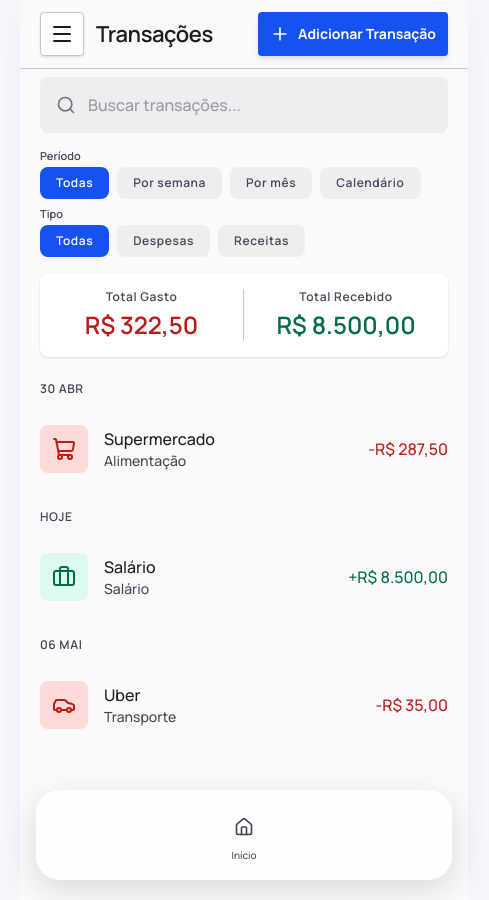
Scenario: TransactionsView › combina filtro de tipo com busca e período
Click the button "Por mês" at (271, 183), box [230, 167, 312, 199]
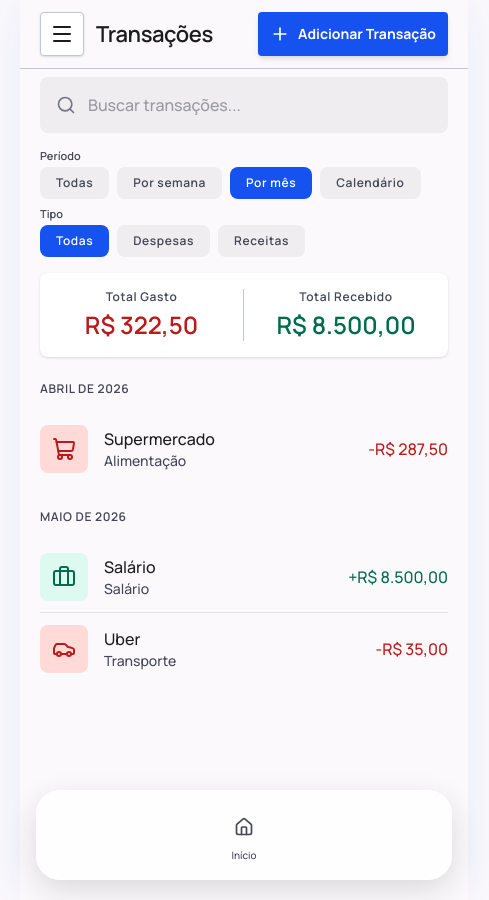
Click the button "Despesas" at (164, 241), box [117, 225, 210, 257]
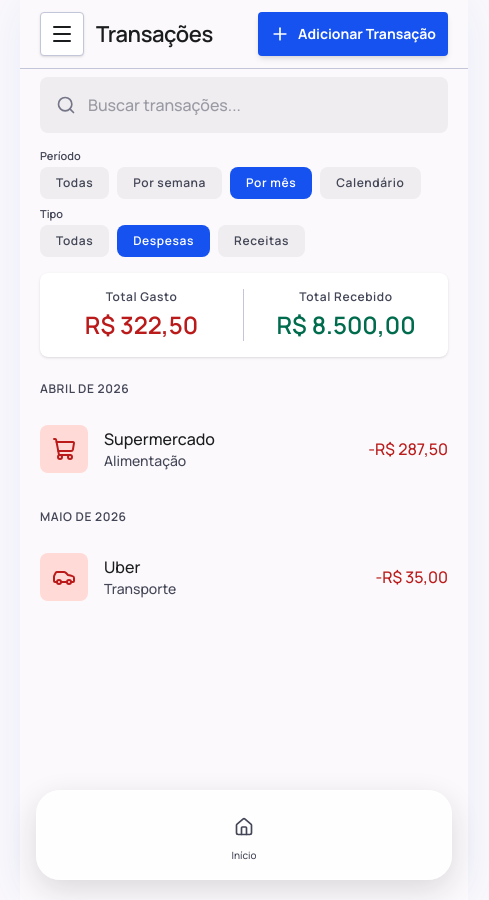
Type "salario" into the field with placeholder "Buscar transações..." at (244, 105), box [40, 77, 448, 133]
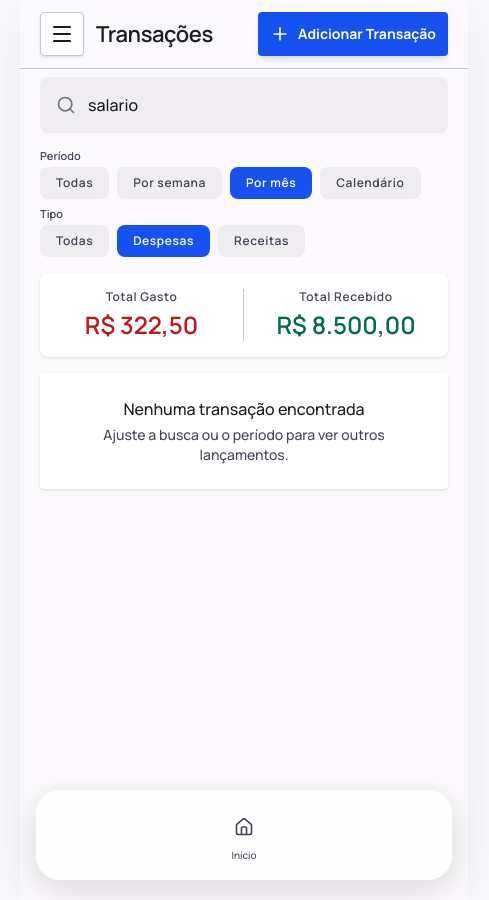
Expected: the text "Nenhuma transação encontrada" is shown, [123, 398, 365, 420]
